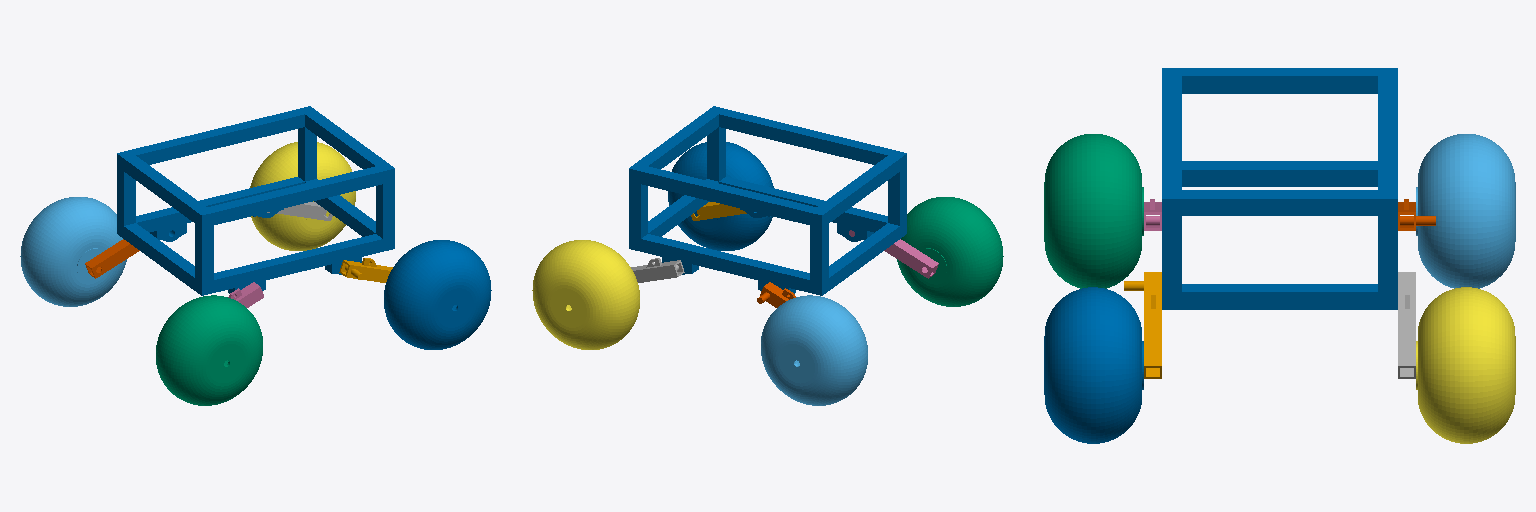
URDF robot description (TARS_V2):
<?xml version="1.0"?>
<!-- created with Phobos 0.8 -->
  <robot name="TARS_V2">

    <link name="link_camera_back">
    </link>

    <link name="link_camera_depth">
    </link>

    <link name="imu_link">
    </link>

    <gazebo reference="link_camera_depth">  
      <sensor type="depth" name="camera">
        <always_on>true</always_on>
        <update_rate>20.0</update_rate>
        <camera>
          <!-- Set camera geometry based on zed cam at 720p -->
          <!-- 70 degress fov -->
          <horizontal_fov>1.2217</horizontal_fov>
          <image>
            <format>B8G8R8</format>
            <width>1280</width>
            <height>720</height>
          </image>
          <clip>
            <near>0.05</near>
            <far>8.0</far>
          </clip>
        </camera>
        <plugin name="kinect_camera_controller" filename="libgazebo_ros_openni_kinect.so">
          <cameraName>camera</cameraName>
          <alwaysOn>true</alwaysOn>
          <updateRate>100</updateRate>
          <imageTopicName>rgb/image_raw</imageTopicName>
          <depthImageTopicName>depth/image_raw</depthImageTopicName>
          <pointCloudTopicName>depth/points</pointCloudTopicName>
          <cameraInfoTopicName>rgb/camera_info</cameraInfoTopicName>
          <depthImageCameraInfoTopicName>depth/camera_info</depthImageCameraInfoTopicName>
          <frameName>camera_depth_optical_frame</frameName>
          <baseline>0.1</baseline>
          <distortion_k1>0.0</distortion_k1>
          <distortion_k2>0.0</distortion_k2>
          <distortion_k3>0.0</distortion_k3>
          <distortion_t1>0.0</distortion_t1>
          <distortion_t2>0.0</distortion_t2>
          <pointCloudCutoff>0.4</pointCloudCutoff>
        </plugin>

      </sensor>

    </gazebo>

    <link name="link_camera_front">
    </link>


    <link name="base_link">
      <inertial>
        <origin xyz="0 0 0.19608" rpy="0 0 0"/>
        <mass value="30.0"/>
        <inertia ixx="0.79449" ixy="0" ixz="0" iyy="1.21074" iyz="0" izz="1.56825"/>
      </inertial>
      <visual name="visual_chassis">
        <origin xyz="0 0 0" rpy="0 0 0"/>
        <geometry>
          <mesh filename="package://spear_simulator/models/rover/meshes/stl/TARS.V2.Chassis.stl" scale="0.001 0.001 0.001"/>
        </geometry>
      </visual>
      <collision name="collision_chassis">
        <origin xyz="0 0 0.19608" rpy="0 0 0"/>
        <geometry>
          <box size="0.63 0.48 0.29562"/>
        </geometry>
      </collision>
    </link>

    <link name="link_suspension_backleft">
      <inertial>
        <origin xyz="-0.12007 -0.01981 -0.04013" rpy="0 0 0"/>
        <mass value="0.75"/>
        <inertia ixx="0.00147" ixy="0" ixz="0" iyy="0.00598" iyz="0" izz="0.00469"/>
      </inertial>
      <visual name="visual_suspension_backleft">
        <origin xyz="0 0 0" rpy="0 0 -3.14159"/>
        <geometry>
          <mesh filename="package://spear_simulator/models/rover/meshes/stl/TARS.V2.Suspension.001.stl" scale="0.001 0.001 0.001"/>
        </geometry>
      </visual>
      <collision name="collision_suspension_backleft">
        <origin xyz="-0.12007 -0.01981 -0.04013" rpy="0 0 0"/>
        <geometry>
          <box size="0.27135 0.0381 0.14844"/>
        </geometry>
      </collision>
    </link>

    <link name="link_suspension_backright">
      <inertial>
        <origin xyz="-0.12007 0.02019 -0.04013" rpy="0 0 0"/>
        <mass value="0.75"/>
        <inertia ixx="0.00147" ixy="0" ixz="0" iyy="0.00598" iyz="0" izz="0.00469"/>
      </inertial>
      <visual name="visual_suspension_backright">
        <origin xyz="0 0 0" rpy="0 0 -3.14159"/>
        <geometry>
          <mesh filename="package://spear_simulator/models/rover/meshes/stl/TARS.V2.Suspension.001.stl" scale="0.001 0.001 0.001"/>
        </geometry>
      </visual>
      <collision name="collision_suspension_backright">
        <origin xyz="-0.12007 0.02019 -0.04013" rpy="0 0 0"/>
        <geometry>
          <box size="0.27135 0.0381 0.14844"/>
        </geometry>
      </collision>
    </link>

    <link name="link_suspension_frontleft">
      <inertial>
        <origin xyz="0.12007 -0.02019 -0.04013" rpy="0 0 0"/>
        <mass value="0.75"/>
        <inertia ixx="0.00147" ixy="0" ixz="0" iyy="0.00598" iyz="0" izz="0.00469"/>
      </inertial>
      <visual name="visual_suspension_frontleft">
        <origin xyz="0 0 0" rpy="0 0 0"/>
        <geometry>
          <mesh filename="package://spear_simulator/models/rover/meshes/stl/TARS.V2.Suspension.001.stl" scale="0.001 0.001 0.001"/>
        </geometry>
      </visual>
      <collision name="collision_suspension_frontleft">
        <origin xyz="0.12007 -0.02019 -0.04013" rpy="0 0 0"/>
        <geometry>
          <box size="0.27135 0.0381 0.14844"/>
        </geometry>
      </collision>
    </link>

    <link name="link_suspension_frontright">
      <inertial>
        <origin xyz="0.12007 0.01981 -0.04013" rpy="0 0 0"/>
        <mass value="0.75"/>
        <inertia ixx="0.00147" ixy="0" ixz="0" iyy="0.00598" iyz="0" izz="0.00469"/>
      </inertial>
      <visual name="visual_suspension_frontright">
        <origin xyz="0 0 0" rpy="0 0 0"/>
        <geometry>
          <mesh filename="package://spear_simulator/models/rover/meshes/stl/TARS.V2.Suspension.001.stl" scale="0.001 0.001 0.001"/>
        </geometry>
      </visual>
      <collision name="collision_suspension_frontright">
        <origin xyz="0.12007 0.01981 -0.04013" rpy="0 0 0"/>
        <geometry>
          <box size="0.27134 0.0381 0.14845"/>
        </geometry>
      </collision>
    </link>

    <link name="link_wheel_backleft">
      <inertial>
        <origin xyz="0 0.10244 0" rpy="0 0 0"/>
        <mass value="1.5"/>
        <inertia ixx="0.01534" ixy="0" ixz="0" iyy="0.01534" iyz="0" izz="0.01534"/>
      </inertial>
      <visual name="visual_wheel_backleft">
        <origin xyz="0 0 0" rpy="0 0 0"/>
        <geometry>
          <mesh filename="package://spear_simulator/models/rover/meshes/stl/TARS.V2.Wheel.001.stl" scale="0.001 0.001 0.001"/>
        </geometry>
      </visual>
      <collision name="collision_wheel_backleft">
        <origin xyz="0 0.10244 0" rpy="0 0 0"/>
        <geometry>
          <sphere radius="0.15989"/>
        </geometry>
      </collision>
    </link>

    <link name="link_wheel_backright">
      <inertial>
        <origin xyz="0 -0.10254 0" rpy="0 0 0"/>
        <mass value="1.5"/>
        <inertia ixx="0.01534" ixy="0" ixz="0" iyy="0.01534" iyz="0" izz="0.01534"/>
      </inertial>
      <visual name="visual_wheel_backright">
        <origin xyz="0 0 0" rpy="0 0 -3.14159"/>
        <geometry>
          <mesh filename="package://spear_simulator/models/rover/meshes/stl/TARS.V2.Wheel.001.stl" scale="0.001 0.001 0.001"/>
        </geometry>
      </visual>
      <collision name="collision_wheel_backright">
        <origin xyz="0 -0.10254 0" rpy="0 0 0"/>
        <geometry>
          <sphere radius="0.15989"/>
        </geometry>
      </collision>
    </link>

    <link name="link_wheel_frontleft">
      <inertial>
        <origin xyz="0 0.10244 0" rpy="0 0 0"/>
        <mass value="1.5"/>
        <inertia ixx="0.01534" ixy="0" ixz="0" iyy="0.01534" iyz="0" izz="0.01534"/>
      </inertial>
      <visual name="visual_wheel_frontleft">
        <origin xyz="0 0 0" rpy="0 0 0"/>
        <geometry>
          <mesh filename="package://spear_simulator/models/rover/meshes/stl/TARS.V2.Wheel.001.stl" scale="0.001 0.001 0.001"/>
        </geometry>
      </visual>
      <collision name="collision_wheel_frontleft">
        <origin xyz="0 0.10244 0" rpy="0 0 0"/>
        <geometry>
          <sphere radius="0.15989"/>
        </geometry>
      </collision>
    </link>

    <link name="link_wheel_frontright">
      <inertial>
        <origin xyz="0 -0.10264 0" rpy="0 0 0"/>
        <mass value="1.5"/>
        <inertia ixx="0.01534" ixy="0" ixz="0" iyy="0.01534" iyz="0" izz="0.01534"/>
      </inertial>
      <visual name="visual_wheel_frontright">
        <origin xyz="0 0 0" rpy="0 0 -3.14159"/>
        <geometry>
          <mesh filename="package://spear_simulator/models/rover/meshes/stl/TARS.V2.Wheel.001.stl" scale="0.001 0.001 0.001"/>
        </geometry>
      </visual>
      <collision name="collision_wheel_frontright">
        <origin xyz="0 -0.10264 0" rpy="0 0 0"/>
        <geometry>
          <sphere radius="0.15989"/>
        </geometry>
      </collision>
    </link>

    <joint name="link_camera_back" type="fixed">
      <origin xyz="-0.315 1e-05 0.3439" rpy="3.14159 1.5708 0"/>
      <parent link="base_link"/>
      <child link="link_camera_back"/>
    </joint>

    <joint name="link_camera_depth" type="fixed">
      <origin xyz="0.315 1e-05 0.3439" rpy="0 0 0"/>
      <parent link="base_link"/>
      <child link="link_camera_depth"/>
    </joint>

    <joint name="imu_link" type="fixed">
      <origin xyz="0 0 0.2" rpy="0 0 0"/>
      <parent link="base_link"/>
      <child link="imu_link"/>
    </joint>

    <joint name="link_camera_front" type="fixed">
      <origin xyz="0.315 -0.11999 0.3439" rpy="0 1.5708 0"/>
      <parent link="base_link"/>
      <child link="link_camera_front"/>
    </joint>

    <joint name="link_suspension_backleft" type="fixed">
      <origin xyz="-0.15754 0.25888 0.07402" rpy="0 0 0"/>
      <parent link="base_link"/>
      <child link="link_suspension_backleft"/>
    </joint>

    <joint name="link_suspension_backright" type="fixed">
      <origin xyz="-0.15754 -0.25922 0.07402" rpy="0 0 0"/>
      <parent link="base_link"/>
      <child link="link_suspension_backright"/>
    </joint>

    <joint name="link_suspension_frontleft" type="fixed">
      <origin xyz="0.15754 0.25925 0.07402" rpy="0 0 0"/>
      <parent link="base_link"/>
      <child link="link_suspension_frontleft"/>
    </joint>

    <joint name="link_suspension_frontright" type="fixed">
      <origin xyz="0.15755 -0.25885 0.07403" rpy="0 0 0"/>
      <parent link="base_link"/>
      <child link="link_suspension_frontright"/>
    </joint>

    <!-- Stuff to make the wheels driveable -->
    <joint name="link_wheel_backleft" type="continuous">
      <axis xyz="0 1 0" rpy="0 0 0"/>
      <origin xyz="-0.21346 0.01924 -0.08012" rpy="0 0 0"/>
      <parent link="link_suspension_backleft"/>
      <child link="link_wheel_backleft"/>
    </joint>
    <transmission name="wheel_backleft_trans">
      <type>transmission_interface/SimpleTransmission</type>
      <actuator name="wheel_backleft_motor">
        <mechanicalReduction>1</mechanicalReduction>
      </actuator>
      <joint name="link_wheel_backleft">
        <hardwareInterface>VelocityJointInterface</hardwareInterface>
      </joint>
    </transmission>
    <gazebo reference="link_wheel_backleft">
      <mu1 value="200.0"/>
      <mu2 value="100.0"/>
      <kp value="10000000.0" />
      <kd value="1.0" />
      <material>Gazebo/Grey</material>
    </gazebo>

    <joint name="link_wheel_backright" type="continuous">
      <axis xyz="0 1 0" rpy="0 0 0"/>
      <origin xyz="-0.21346 -0.01886 -0.08012" rpy="0 0 0"/>
      <parent link="link_suspension_backright"/>
      <child link="link_wheel_backright"/>
    </joint>
    <transmission name="wheel_backright_trans">
      <type>transmission_interface/SimpleTransmission</type>
      <actuator name="wheel_backright_motor">
        <mechanicalReduction>1</mechanicalReduction>
      </actuator>
      <joint name="link_wheel_backright">
        <hardwareInterface>VelocityJointInterface</hardwareInterface>
      </joint>
    </transmission>
    <gazebo reference="link_wheel_backright">
      <mu1 value="200.0"/>
      <mu2 value="100.0"/>
      <kp value="10000000.0" />
      <kd value="1.0" />
      <material>Gazebo/Grey</material>
    </gazebo>

    <joint name="link_wheel_frontleft" type="continuous">
      <axis xyz="0 1 0" rpy="0 0 0"/>
      <origin xyz="0.21346 0.01886 -0.08012" rpy="0 0 0"/>
      <parent link="link_suspension_frontleft"/>
      <child link="link_wheel_frontleft"/>
    </joint>
    <transmission name="wheel_frontleft_trans">
      <type>transmission_interface/SimpleTransmission</type>
      <actuator name="wheel_frontleft_motor">
        <mechanicalReduction>1</mechanicalReduction>
      </actuator>
      <joint name="link_wheel_frontleft">
        <hardwareInterface>VelocityJointInterface</hardwareInterface>
      </joint>
    </transmission>
    <gazebo reference="link_wheel_frontleft">
      <mu1 value="200.0"/>
      <mu2 value="100.0"/>
      <kp value="10000000.0" />
      <kd value="1.0" />
      <material>Gazebo/Grey</material>
    </gazebo>

    <joint name="link_wheel_frontright" type="continuous">
      <axis xyz="0 1 0" rpy="0 0 0"/>
      <origin xyz="0.21345 -0.01924 -0.08014" rpy="0 0 0"/>
      <parent link="link_suspension_frontright"/>
      <child link="link_wheel_frontright"/>
    </joint>
    <transmission name="wheel_frontright_trans">
      <type>transmission_interface/SimpleTransmission</type>
      <actuator name="wheel_frontright_motor">
        <mechanicalReduction>1</mechanicalReduction>
      </actuator>
      <joint name="link_wheel_frontright">
        <hardwareInterface>VelocityJointInterface</hardwareInterface>
      </joint>
    </transmission>
    <gazebo reference="link_wheel_frontright">
      <mu1 value="200.0"/>
      <mu2 value="100.0"/>
      <kp value="10000000.0" />
      <kd value="1.0" />
      <material>Gazebo/Grey</material>
    </gazebo>

    <gazebo>
      <plugin name="gazebo_ros_control" filename="libgazebo_ros_control.so">
        <robotNamespace>/</robotNamespace>
      </plugin>
    </gazebo>

    <gazebo>
      <plugin name="gps_controller" filename="libhector_gazebo_ros_gps.so">
        <alwaysOn>true</alwaysOn>
        <updateRate>1.0</updateRate>
        <bodyName>base_link</bodyName>
        <topicName>/fix</topicName>
        <velocityTopicName>/fix_velocity</velocityTopicName>
        <referenceLatitude>51.47</referenceLatitude>
        <referenceLongitude>-112.71</referenceLongitude>
      </plugin>
    </gazebo>

    <gazebo reference="imu_link">
      <gravity>true</gravity>
      <sensor name="imu_sensor" type="imu">
	<always_on>true</always_on>
	<update_rate>100</update_rate>
	<visualize>true</visualize>
	<topic>imu</topic>
	<plugin filename="libgazebo_ros_imu_sensor.so" name="imu_plugin">
          <topicName>imu</topicName>
          <bodyName>base_link</bodyName>
          <updateRateHZ>10.0</updateRateHZ>
          <gaussianNoise>0.0</gaussianNoise>
          <xyzOffset>0 0 0</xyzOffset>
          <rpyOffset>0 0 0</rpyOffset>
        <frameName>imu_link</frameName>
	</plugin>
	<pose>0 0 0 0 0 0</pose>
      </sensor>
    </gazebo>
  </robot>

--- Render facts (derived) ---
Views: 3 orthographic renders of the robot side by side, from view 1: azimuth 30°, elevation 25°; view 2: azimuth 150°, elevation 25°; view 3: azimuth 270°, elevation 25°.
Robot: TARS_V2 — 13 links, 12 joints (4 continuous, 8 fixed); root link base_link; default pose: all joints at 0.
Links seen in each view (by area): view 1: base_link, link_wheel_frontright, link_wheel_backright, link_wheel_backleft, link_wheel_frontleft, link_suspension_backleft, link_suspension_frontright, link_suspension_frontleft; view 2: base_link, link_wheel_frontleft, link_wheel_backleft, link_wheel_backright, link_wheel_frontright, link_suspension_backright, link_suspension_frontleft, link_suspension_frontright, link_suspension_backleft; view 3: base_link, link_wheel_frontleft, link_wheel_frontright, link_wheel_backright, link_wheel_backleft, link_suspension_frontright, link_suspension_frontleft, link_suspension_backleft.
Link boxes in pixels (x1,y1,x2,y2): base_link: [117, 106, 394, 295]; link_wheel_frontright: [384, 240, 491, 349]; link_wheel_backright: [156, 295, 262, 405]; link_wheel_backleft: [20, 197, 126, 306]; link_wheel_frontleft: [250, 142, 355, 250]; link_suspension_backleft: [85, 239, 139, 278]; link_suspension_frontright: [339, 258, 392, 282]; link_suspension_frontleft: [267, 202, 332, 220]; base_link: [629, 106, 906, 295]; link_wheel_frontleft: [532, 240, 639, 349]; link_wheel_backleft: [761, 295, 867, 405]; link_wheel_backright: [897, 197, 1003, 306]; link_wheel_frontright: [668, 142, 773, 250]; link_suspension_backright: [849, 230, 938, 278]; link_suspension_frontleft: [631, 258, 684, 282]; link_suspension_frontright: [691, 202, 746, 220]; link_suspension_backleft: [757, 282, 795, 307]; base_link: [1162, 68, 1397, 309]; link_wheel_frontleft: [1416, 287, 1515, 443]; link_wheel_frontright: [1044, 287, 1143, 443]; link_wheel_backright: [1044, 134, 1143, 288]; link_wheel_backleft: [1416, 134, 1515, 288]; link_suspension_frontright: [1124, 272, 1161, 378]; link_suspension_frontleft: [1398, 272, 1415, 378]; link_suspension_backleft: [1398, 199, 1435, 230].
Bounding box of the posed robot: 1.06 × 0.9613 × 0.5098 m (x, y, z).
Meshes: 3 distinct files referenced, 9 mesh visuals loaded (3 binary STL).